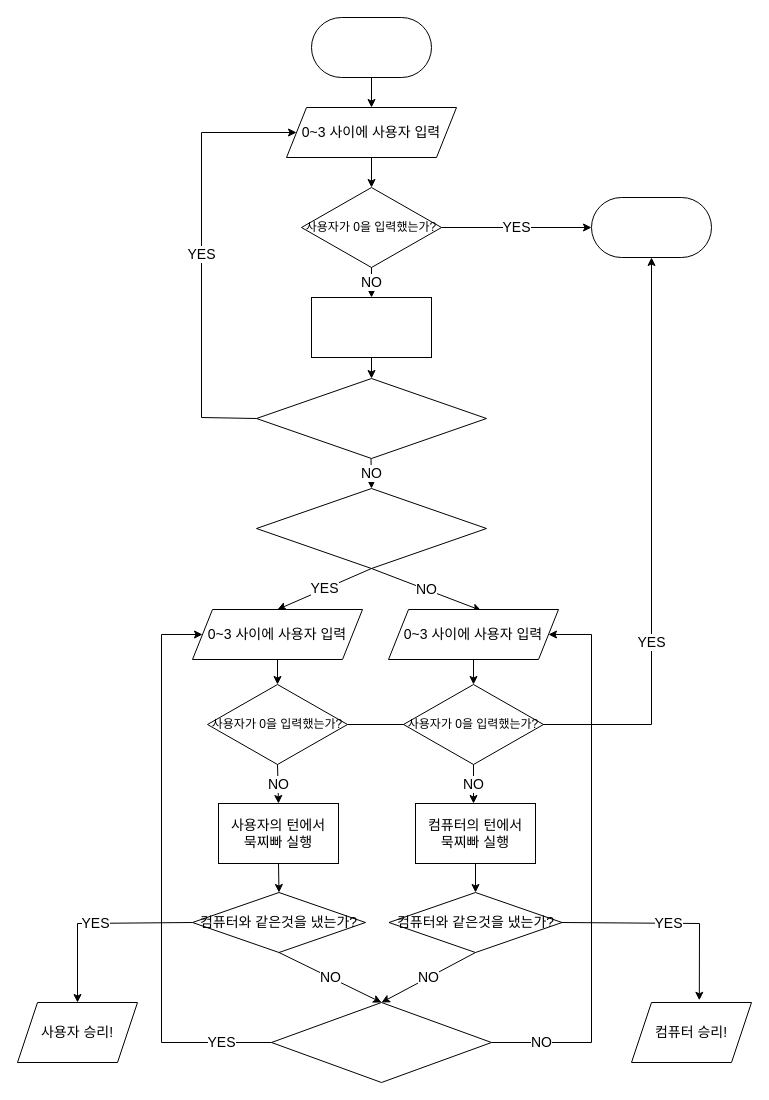
This 769x1100 diagram has some shape labels left out. The centre of each missing label's shape, as x and y in pixels:
"가위바위보 실행" belongs at (371,327).
"가위바위보를 비겼는가?" belongs at (371,418).
"가위바위보형식으로 유저가 턴을 잡았는가?" belongs at (381,1042).
"게임 종료" belongs at (651,227).
"사용자가 이겼는가?" belongs at (371,528).
"시작" belongs at (371,47).
